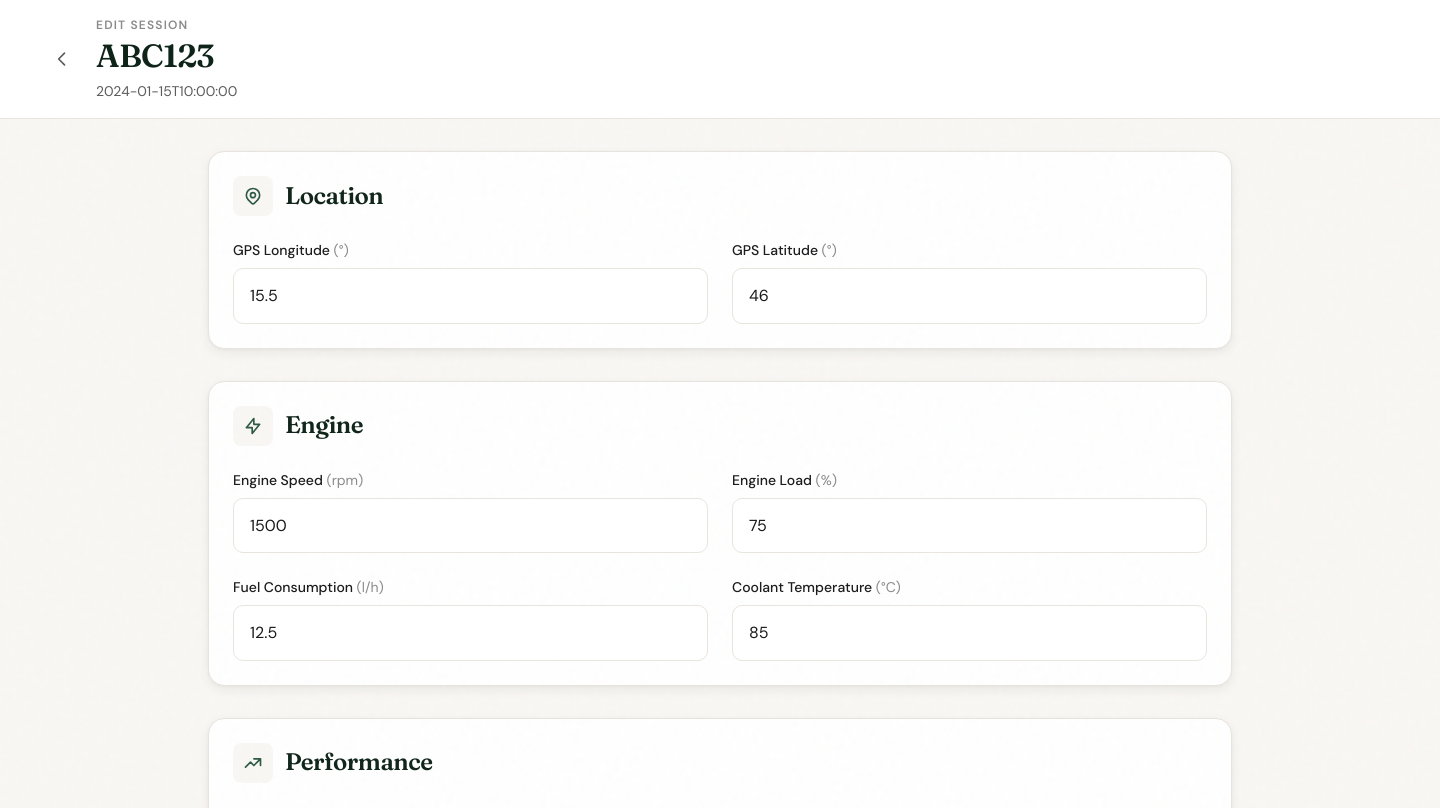
Test: EditSession › submits form with valid data
The width and height of the screenshot is (1440, 808).
Replace the text in the number field with id "engine_speed" with "1600" at point(470, 525), box [233, 498, 708, 553]
(page scrolled)
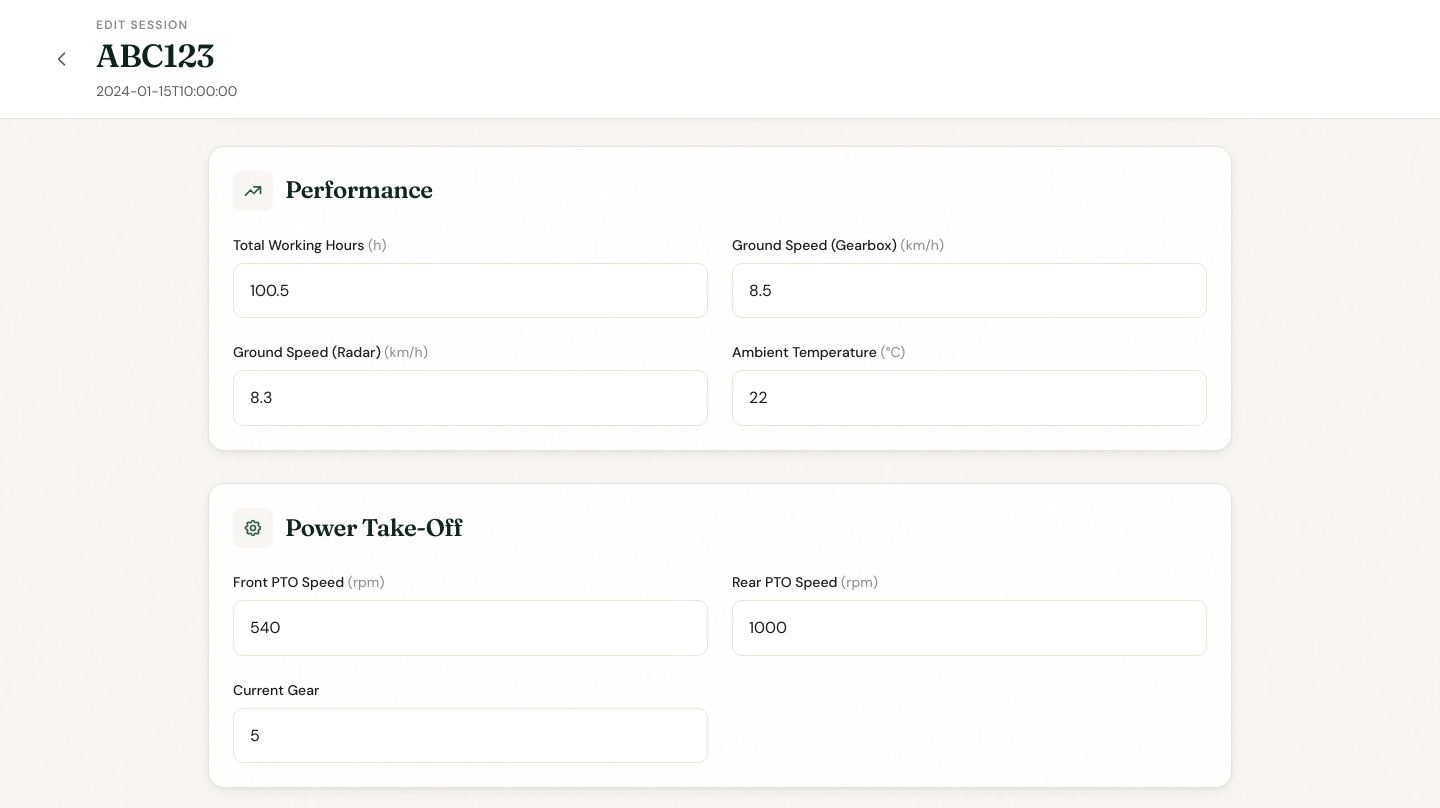
Submit the form
(page scrolled)
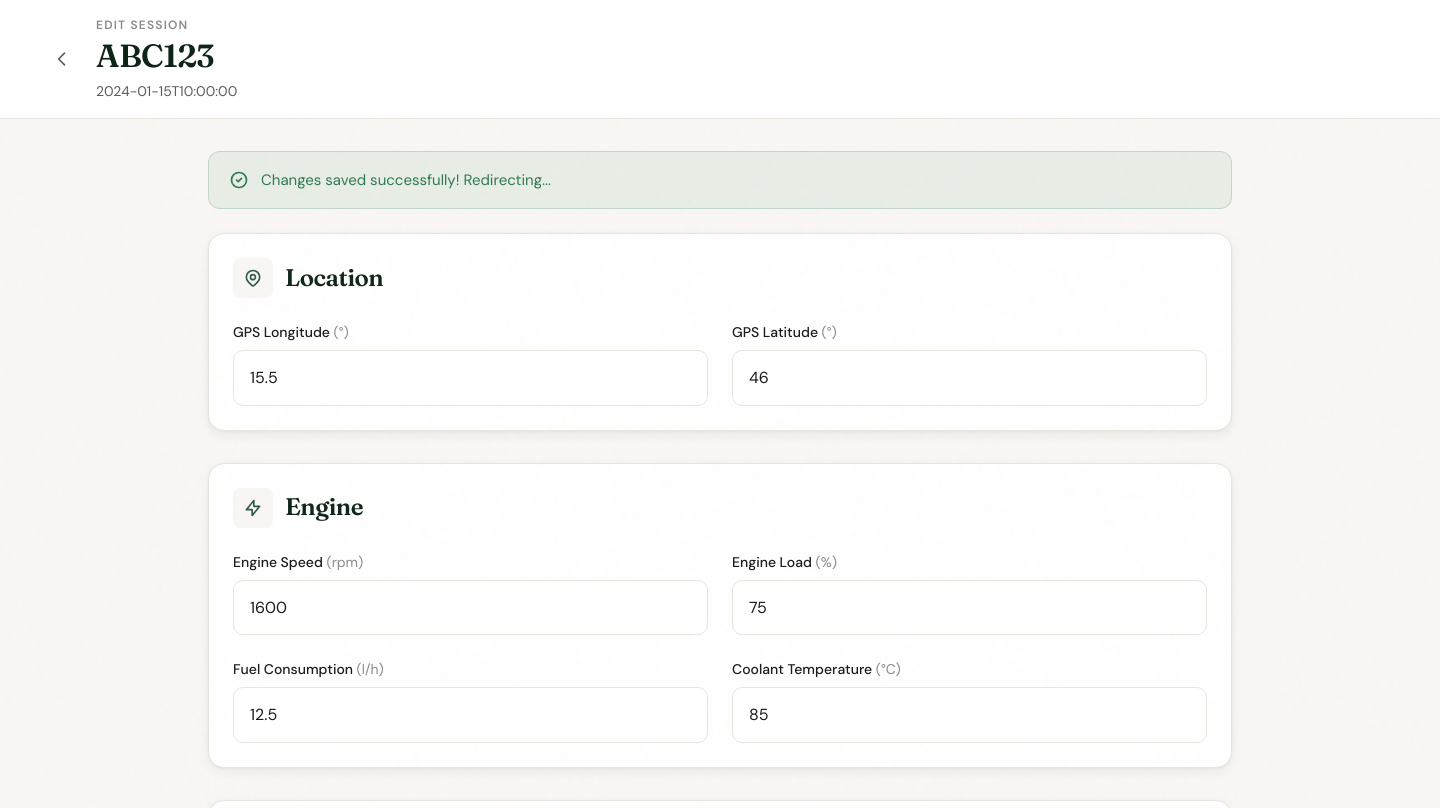
Result: the text "Changes saved successfully" is shown at [261, 170, 551, 190]
